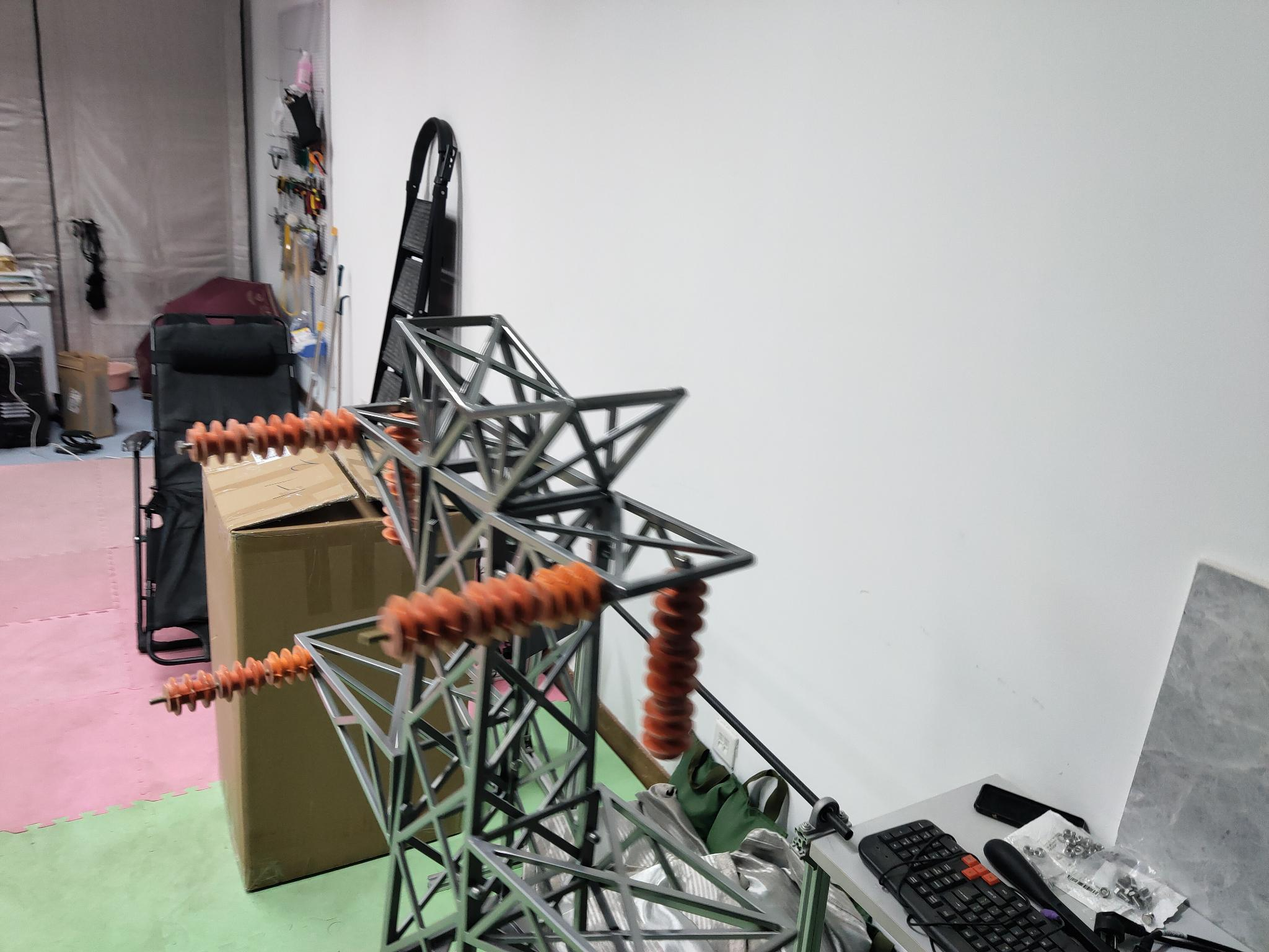tower: (301, 313, 793, 952)
